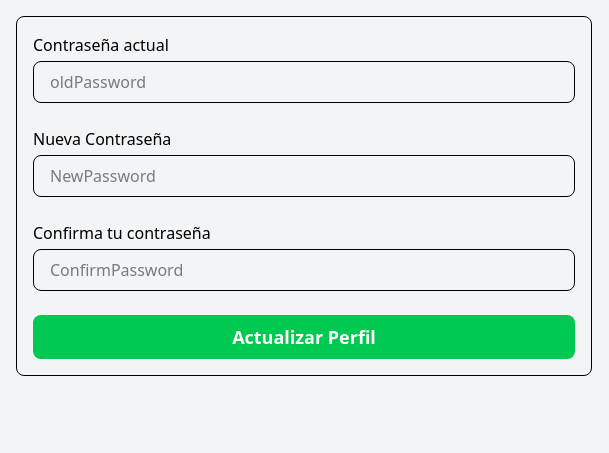
FormUpdateInfoUser Test › Validaciones › Debe de mostrar error de validación en el campo de new password
Type "newPa" into the password field with placeholder "NewPassword" at (304, 176), box [33,155,575,197]
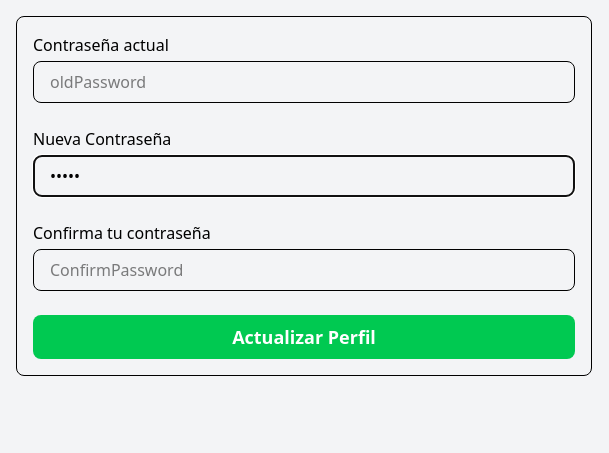
Press Tab
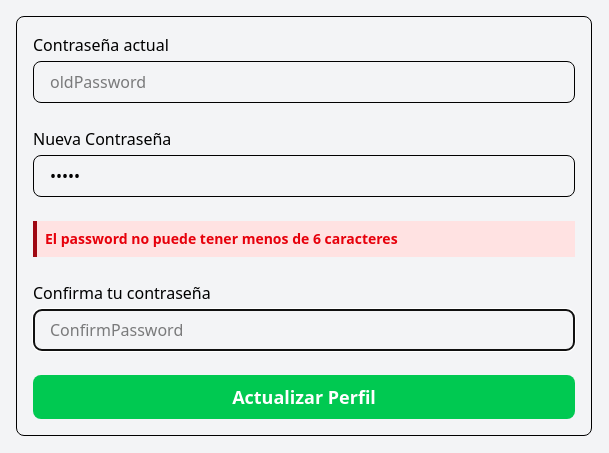
expect the text "El password no puede tener menos de 6 caracteres" is shown: met, box [33,221,575,257]
